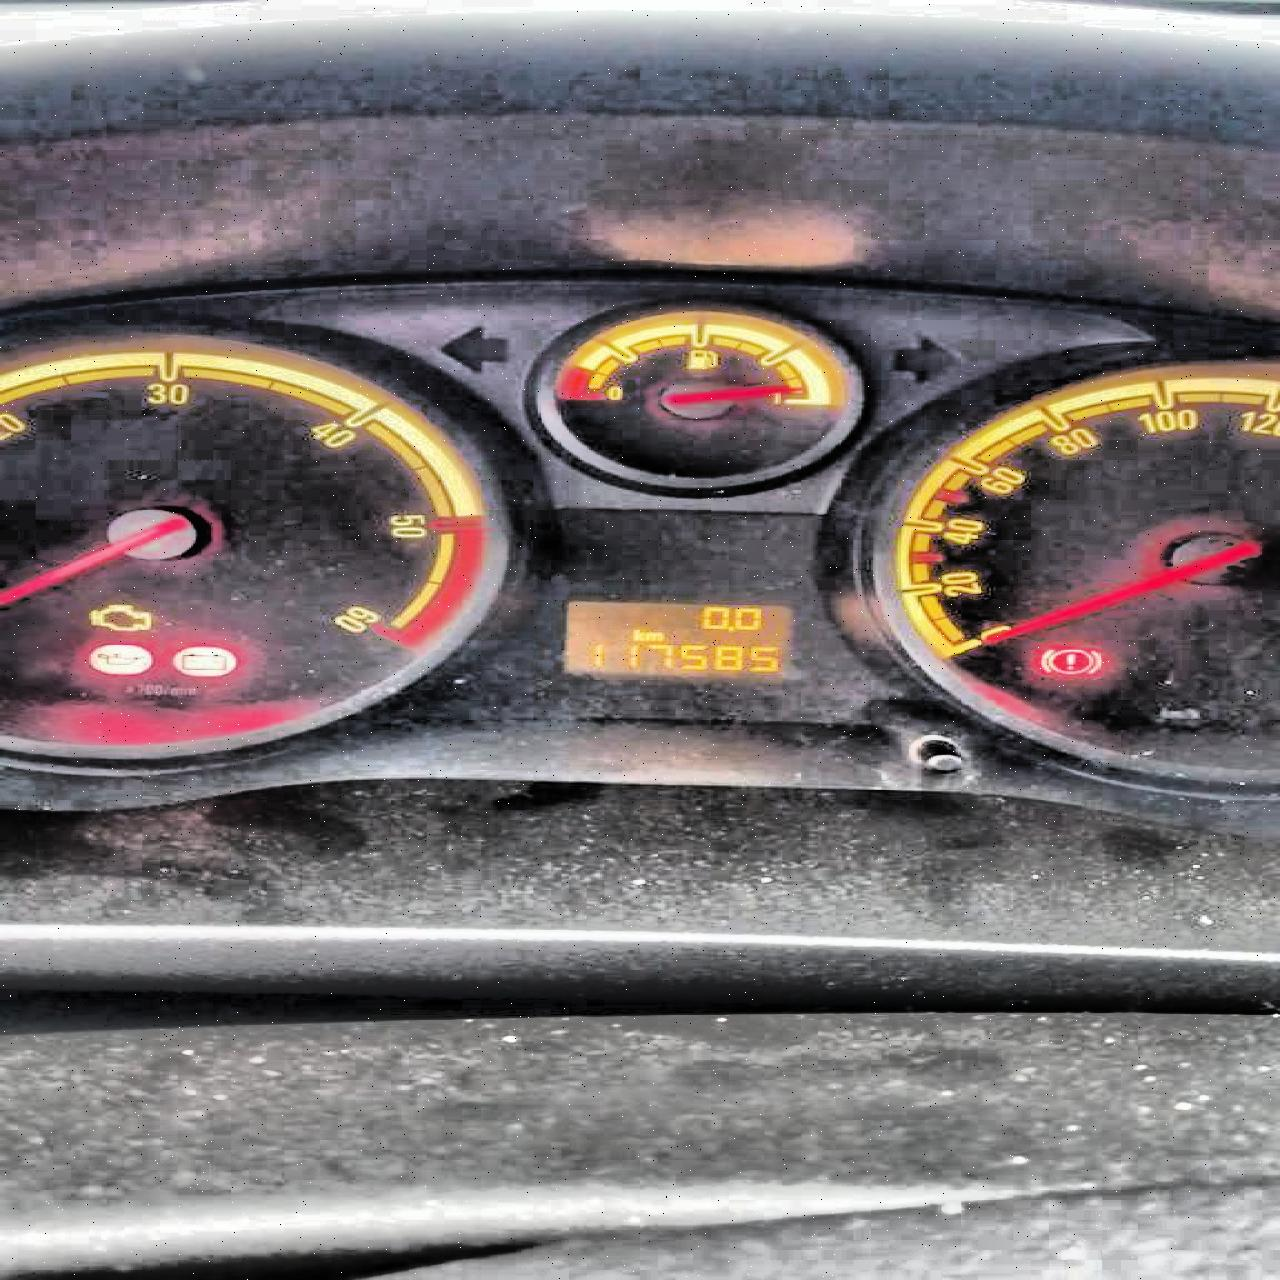-: (724, 625, 734, 633)
0: (731, 606, 760, 629), (700, 606, 729, 628)
1: (588, 642, 602, 667), (625, 644, 638, 666)
5: (747, 645, 776, 670), (678, 644, 707, 668)
7: (645, 642, 672, 667)
8: (712, 644, 742, 670)
X: (642, 631, 662, 641), (628, 627, 642, 641)
odometer: (556, 599, 791, 680)
